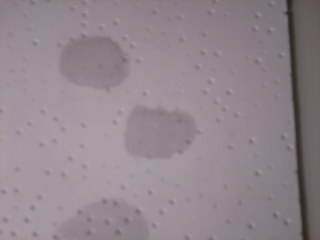Water_detected: (127, 104, 186, 158), (71, 39, 113, 80), (85, 204, 132, 239)
